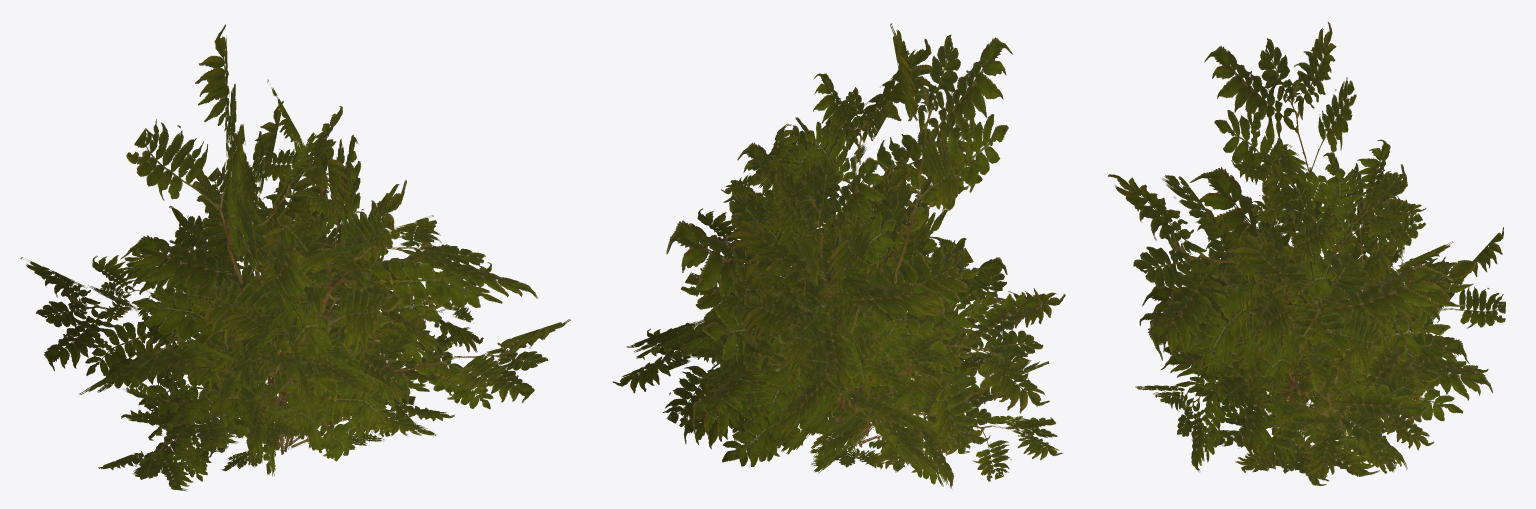
Rendered from bush01_lod2.obj.
The picture shows the model from 3 angles, left to right: view 1: azimuth 30°, elevation 25°; view 2: azimuth 150°, elevation 25°; view 3: azimuth 270°, elevation 25°; orthographic projection. The views are drawn at different scales.
Visible parts, largest first — view 1: Bush01_LOD2_Mesh.006; view 2: Bush01_LOD2_Mesh.006; view 3: Bush01_LOD2_Mesh.006.
Boxes of the visible parts, x1=… form: Bush01_LOD2_Mesh.006: x1=20, y1=24, x2=570, y2=491; Bush01_LOD2_Mesh.006: x1=613, y1=23, x2=1065, y2=489; Bush01_LOD2_Mesh.006: x1=1108, y1=22, x2=1505, y2=485.
Size of the model in its own units: 5.55 by 5.69 by 5.29.
1 material, 1 textured.
